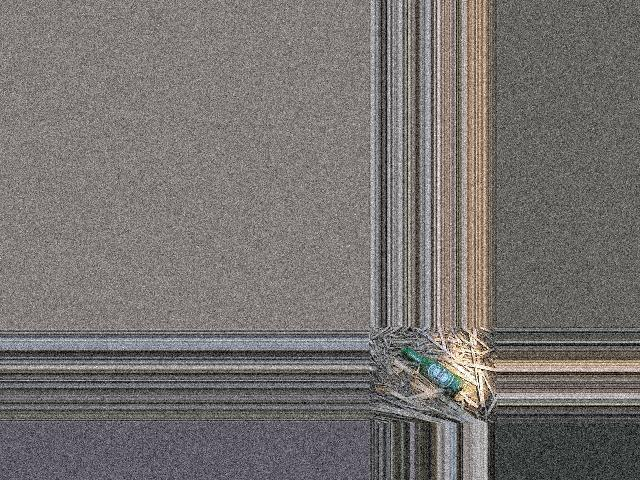beer: (400, 347, 464, 397)
